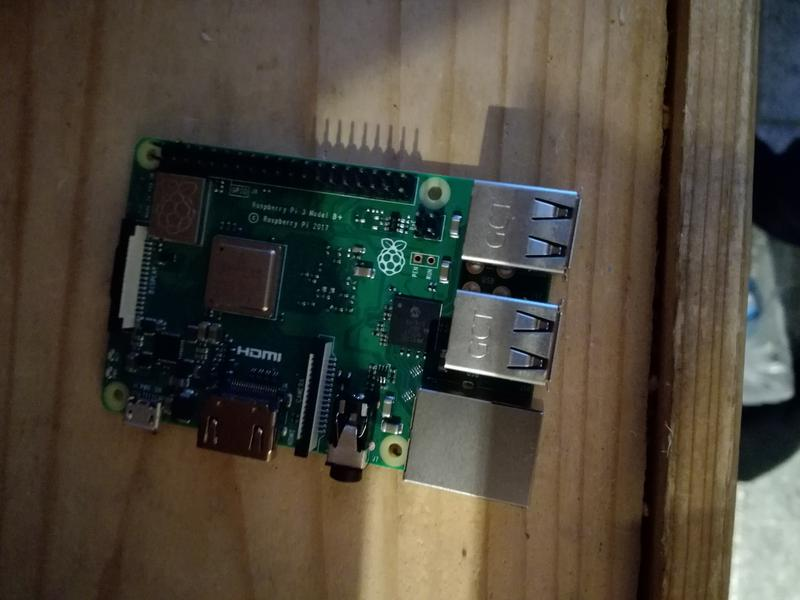Raspberry_Pi_3: (100, 129, 590, 511)
